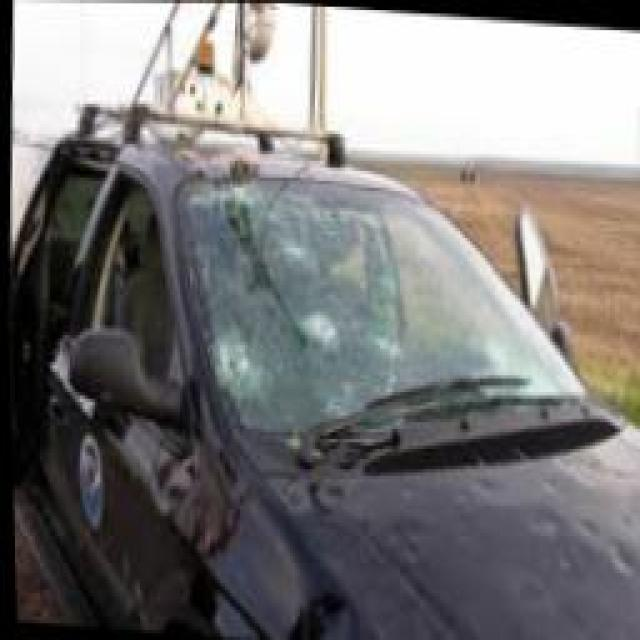Bonnet: (261, 426, 640, 640)
Fender: (107, 413, 394, 640)
Windshield: (174, 175, 589, 448)
